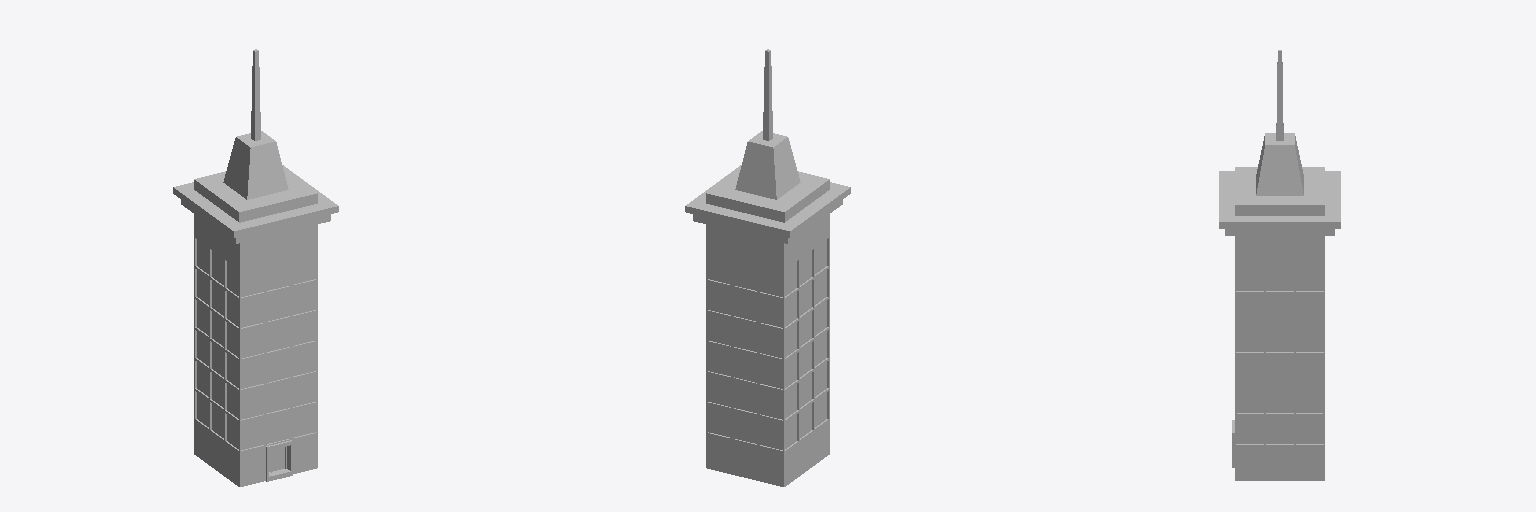
File: building7.obj
3 renders of one model, left to right at view 1: azimuth 30°, elevation 25°; view 2: azimuth 150°, elevation 25°; view 3: azimuth 270°, elevation 25°, orthographic.
Visible parts, largest first — view 1: Skyscraper2; view 2: Skyscraper2; view 3: Skyscraper2.
Part boxes in pixels (left/top/right/bottom): Skyscraper2: left=173, top=49, right=338, bottom=486; Skyscraper2: left=685, top=49, right=850, bottom=486; Skyscraper2: left=1219, top=50, right=1340, bottom=480.
Bounding box in the file's own units: 0.8077 × 3.02 × 0.8077.